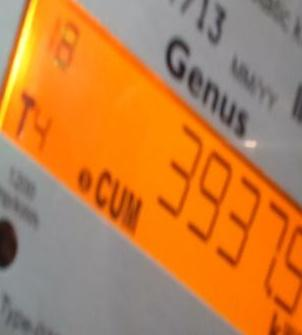0: (262, 283, 275, 301)
4: (159, 120, 201, 221), (219, 174, 259, 269)
6: (273, 223, 302, 312)
8: (251, 197, 292, 284)
:: (184, 147, 233, 240)
